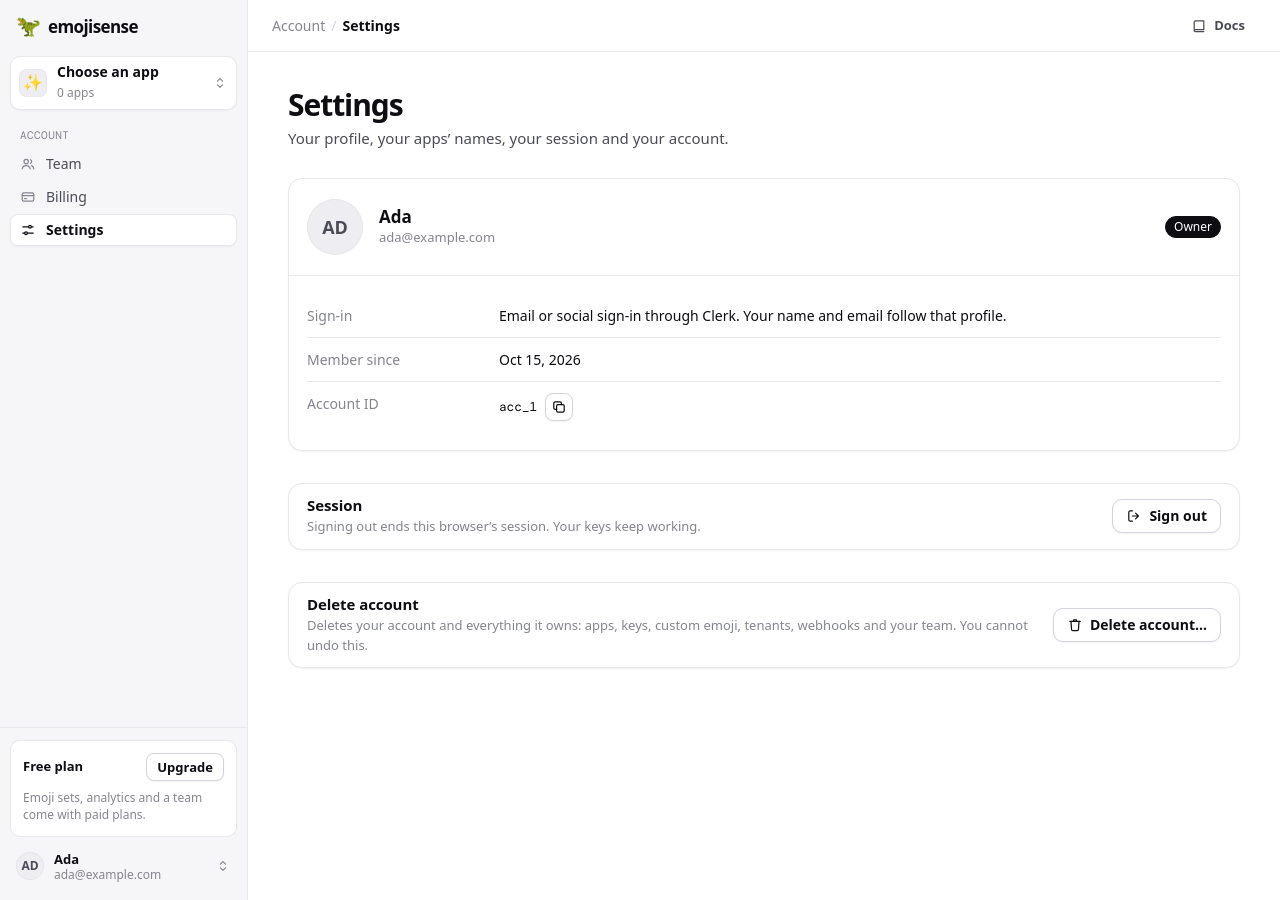
Test case: settings page › deletes the account only after the email is typed, then shows the sign-in page
This screenshot has width=1280, height=900.
Click the button "Delete account…": (1137, 625) [1053,608,1221,642]
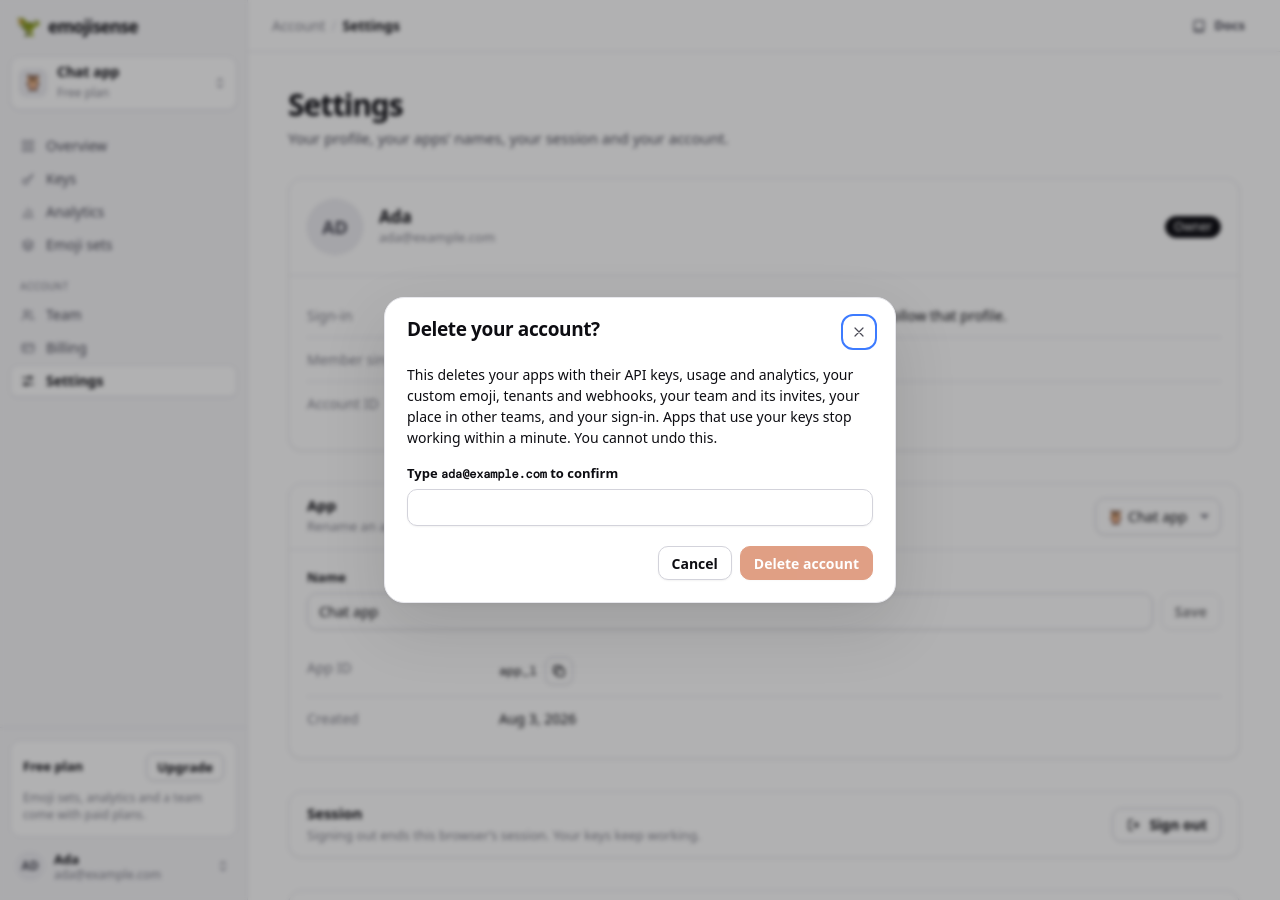
Now the button "Delete account" is disabled, box [740,546,873,580]
In the field labelled "Type ada@example.com to confirm": (640, 508) [407,490,873,526], type "someone@example.com"
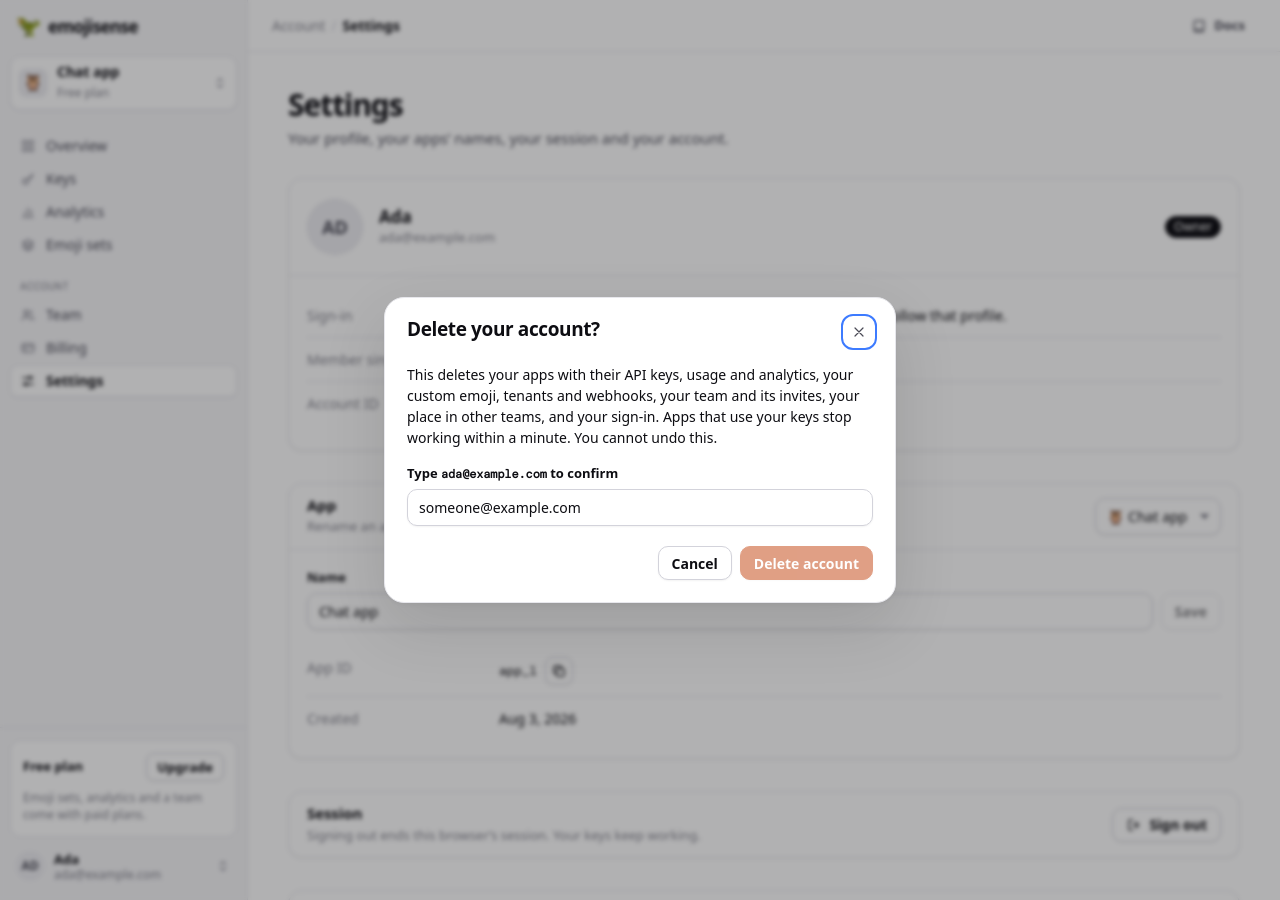
Now the button "Delete account" is disabled, box [740,546,873,580]
Replace the text in the field labelled "Type ada@example.com to confirm" with " ADA@example.com ": (640, 508) [407,490,873,526]
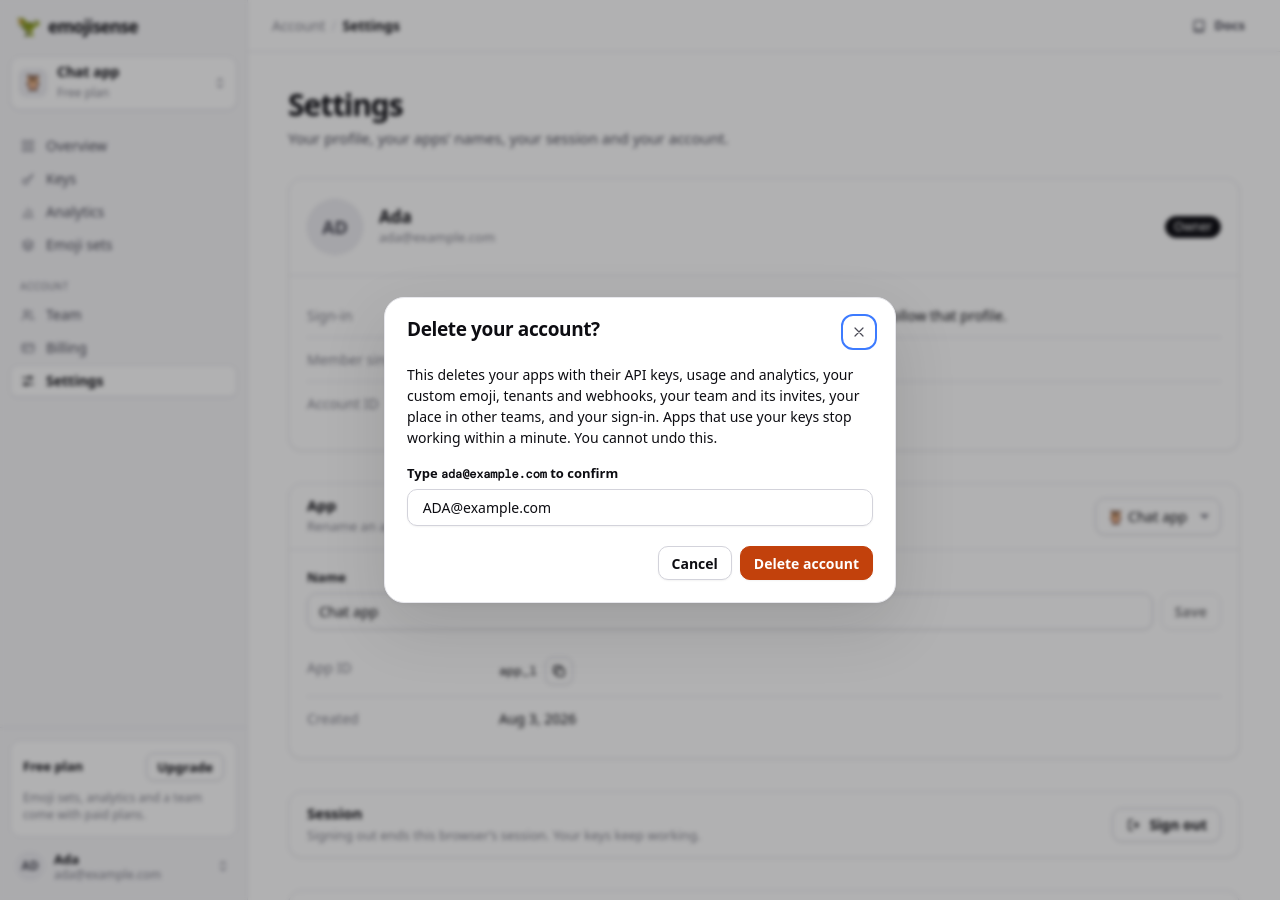
Now the button "Delete account" is enabled
Click the button "Delete account": (806, 564) [740,546,873,580]
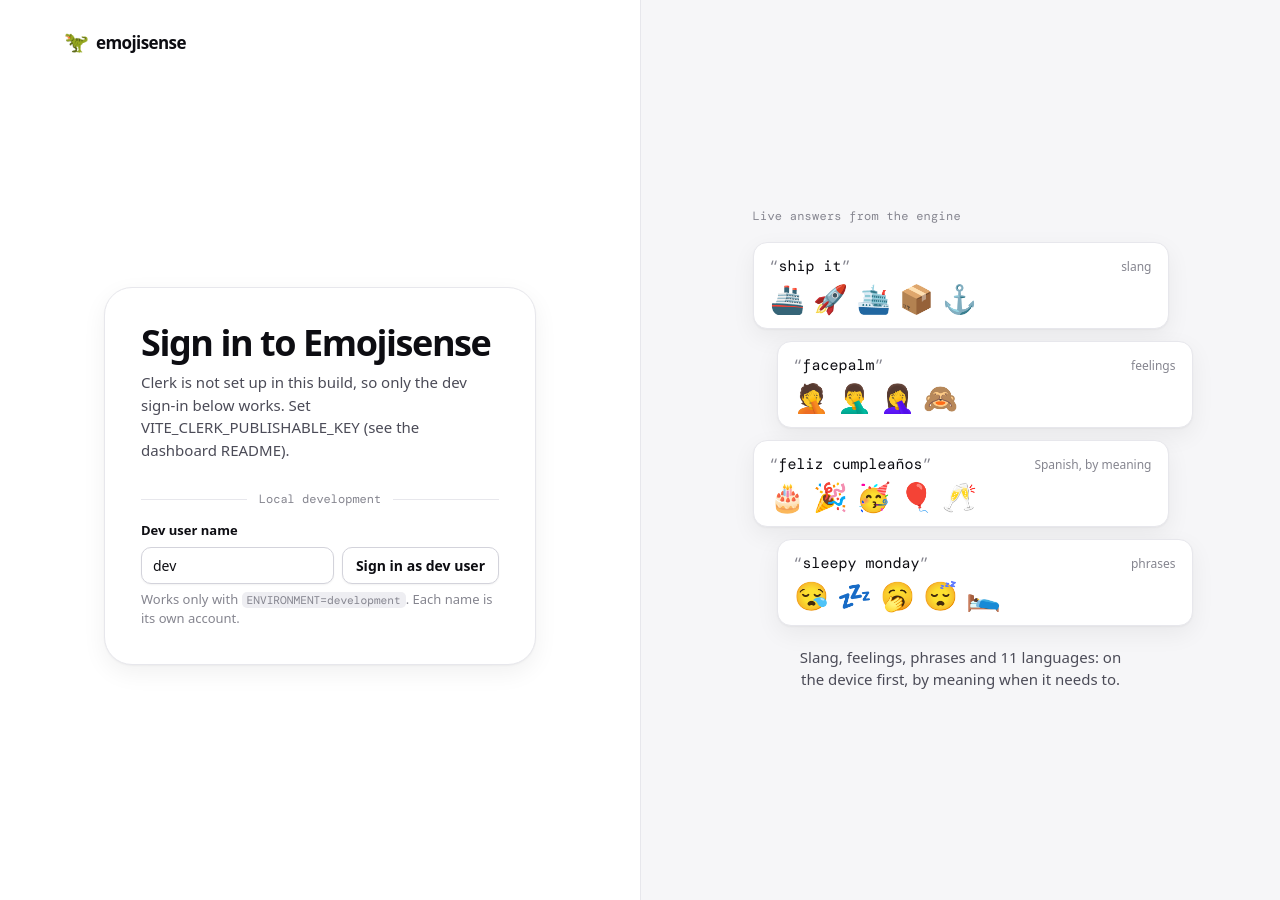
Now the heading "Sign in to Emojisense" is shown, box [141,324,499,363]
